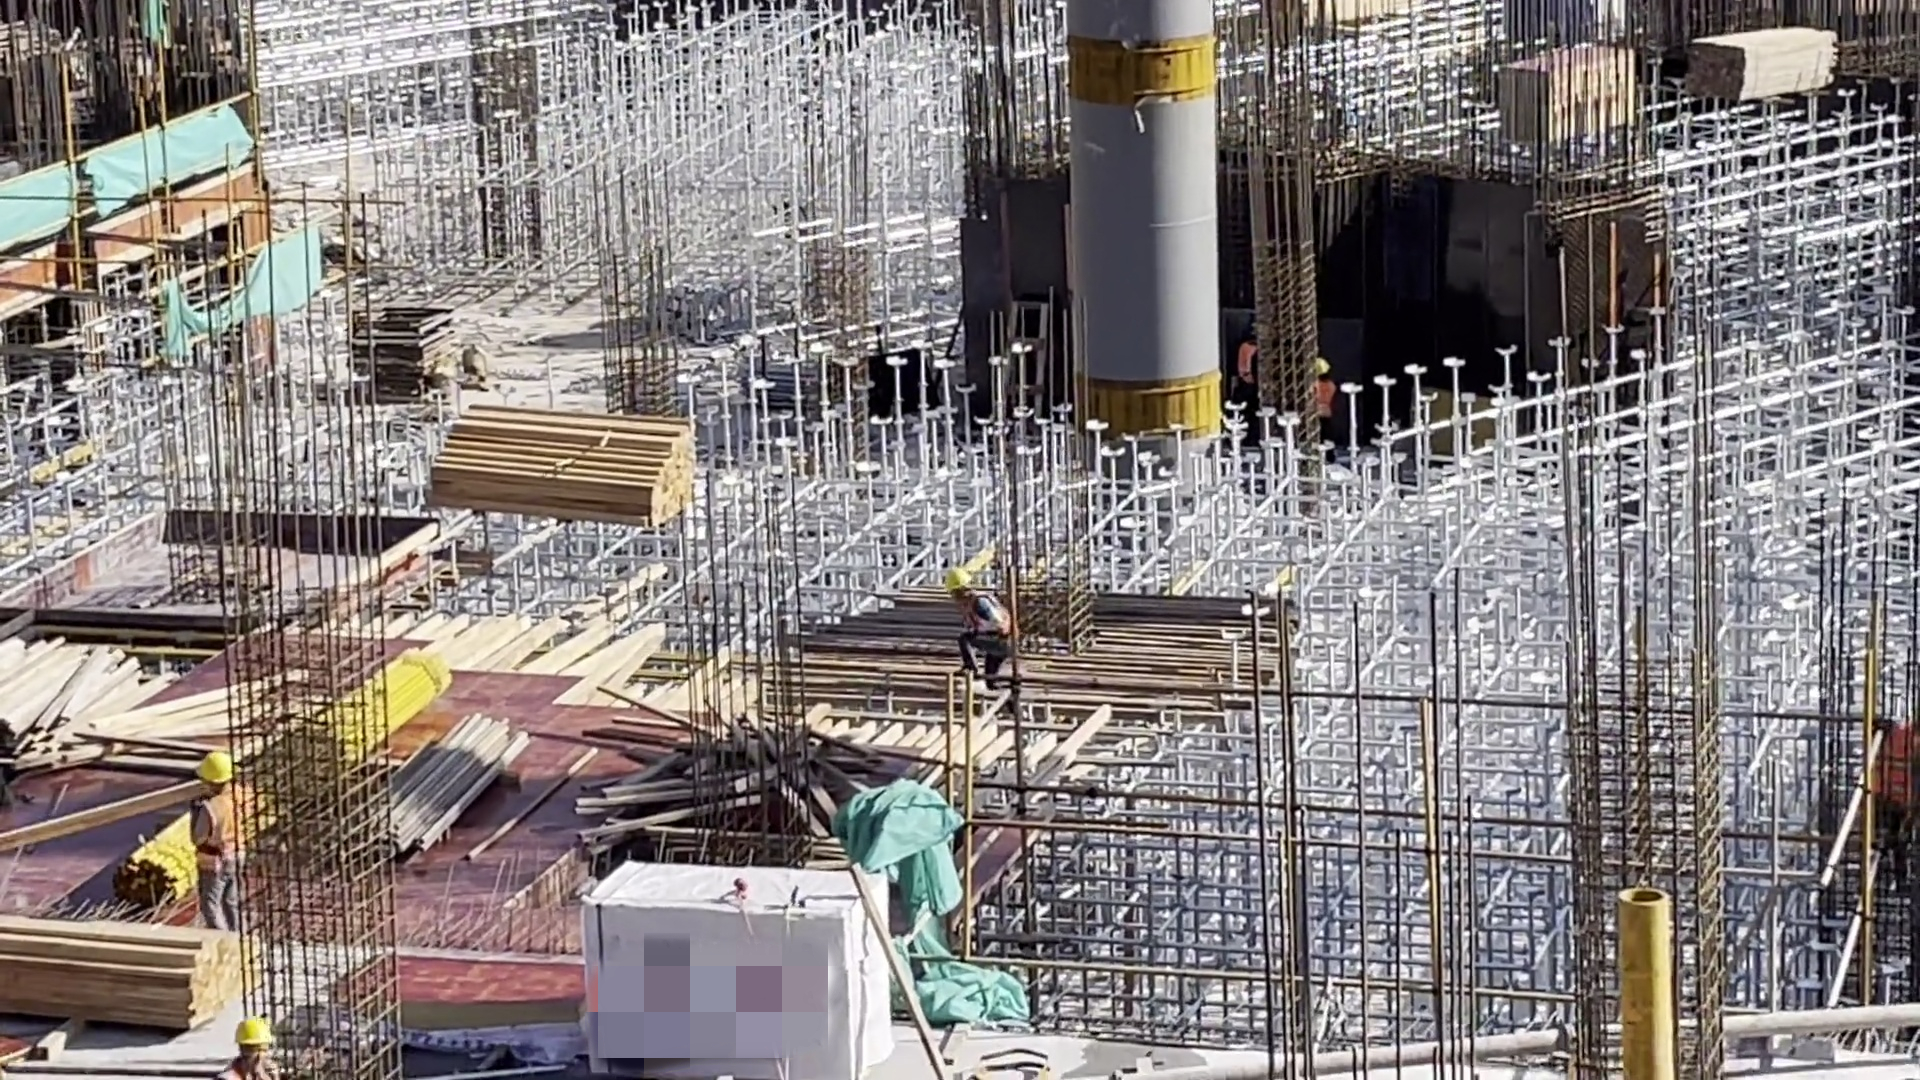person: (940, 557, 1016, 681), (1309, 360, 1339, 443)
rebar: (775, 585, 1301, 714)
wood: (417, 406, 701, 523), (1, 916, 241, 1041), (1, 633, 211, 757), (394, 719, 535, 853), (1688, 31, 1842, 106)
